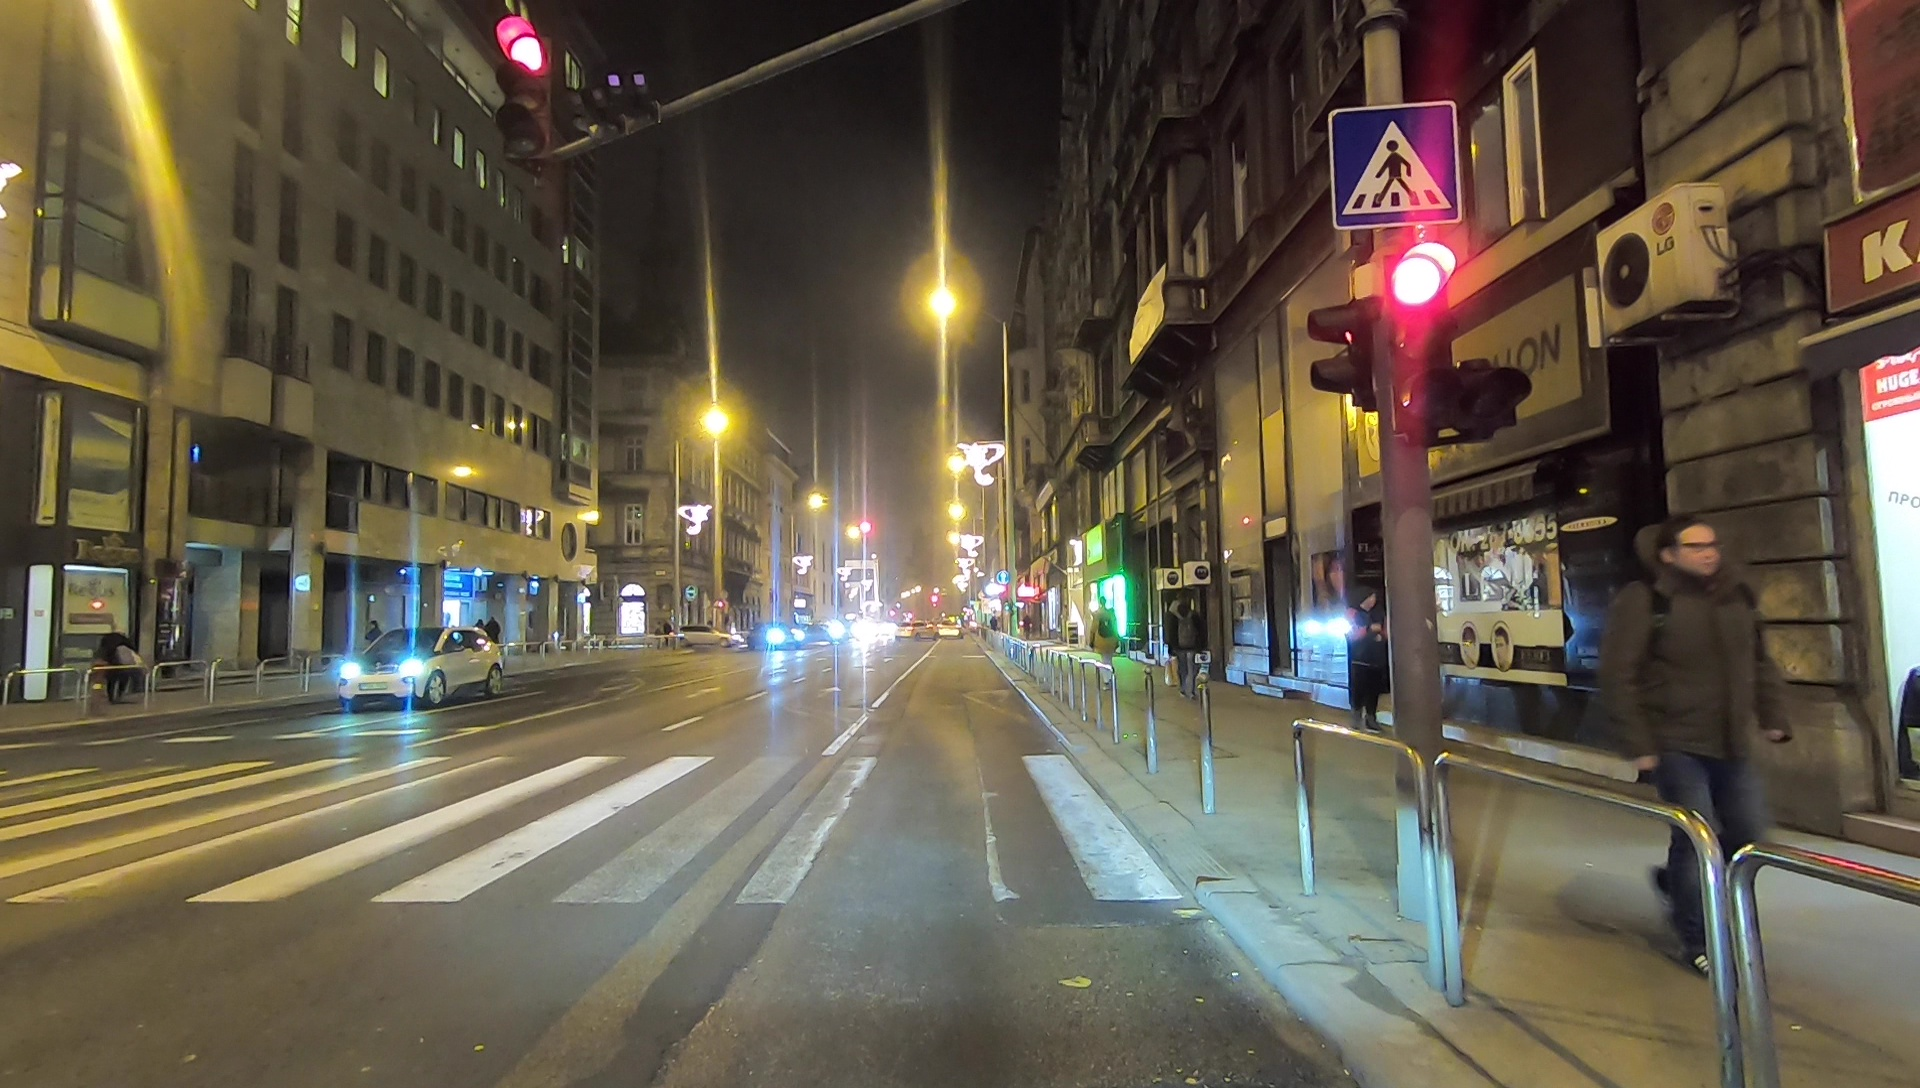person: (1595, 511, 1791, 976), (1341, 586, 1389, 732), (1165, 595, 1208, 699), (97, 630, 138, 710), (1084, 597, 1119, 678)
